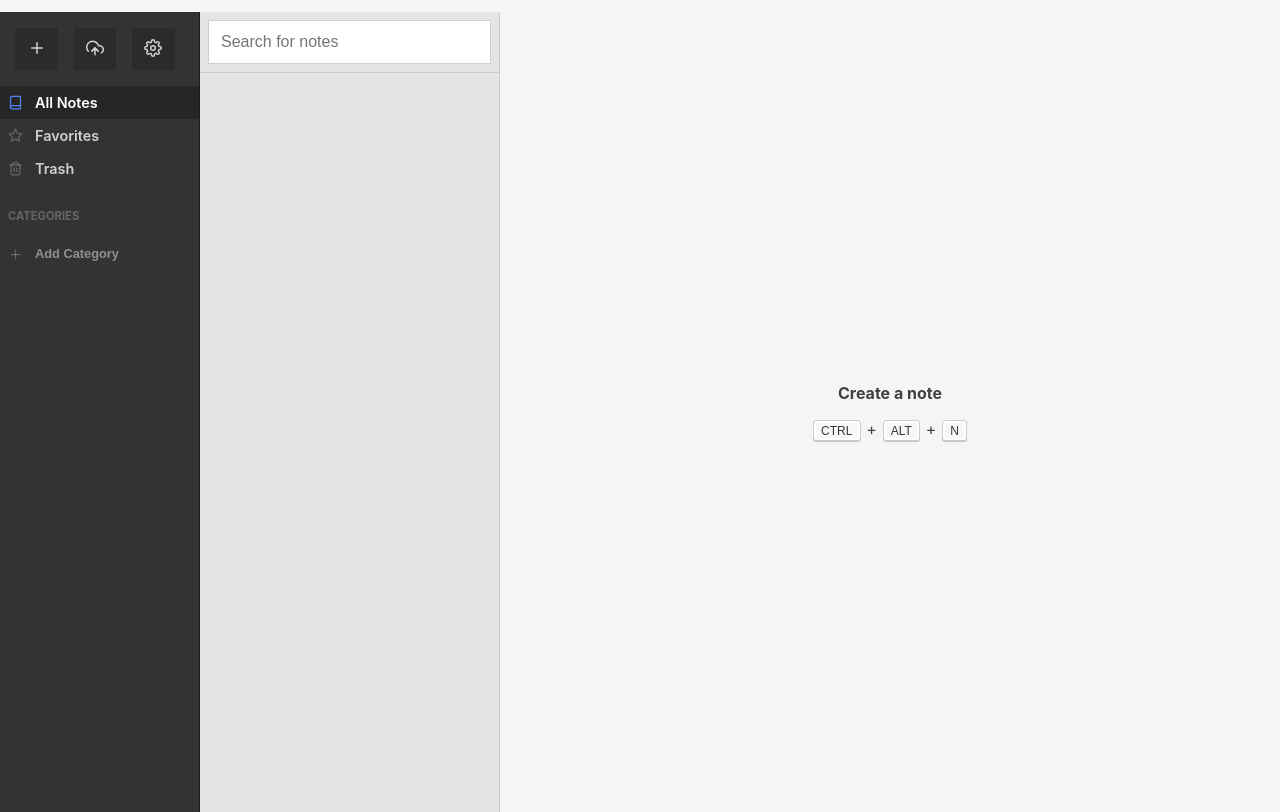
Create note test › creates a new note
This screenshot has width=1280, height=812.
Click the button with test id "Create new note" at (36, 49), box [15,28,57,70]
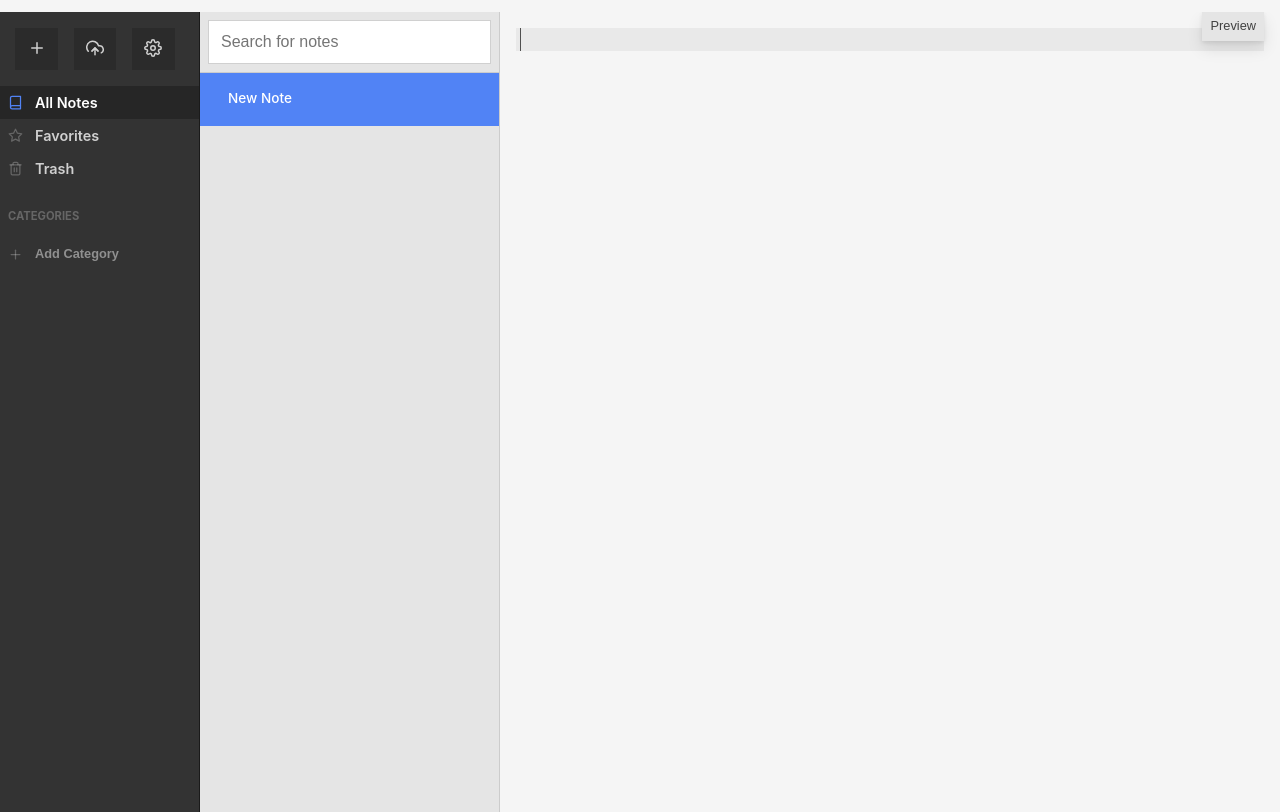
Check: the text with class "note-list-each" reads "New Note", box [228,90,292,106]
